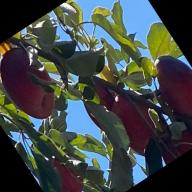Apples: (103, 80, 176, 161), (0, 40, 66, 126), (144, 46, 192, 124), (75, 77, 127, 132), (38, 144, 90, 192), (148, 112, 192, 165)
